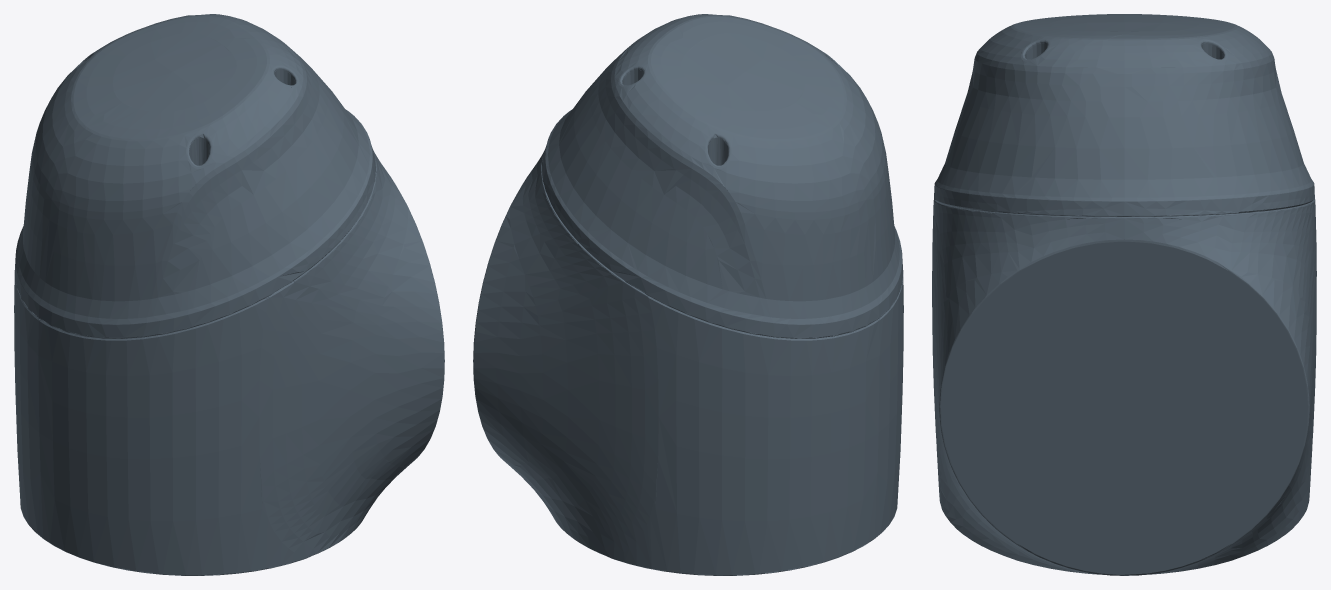
3 renders of one model, left to right at view 1: azimuth 30°, elevation 25°; view 2: azimuth 150°, elevation 25°; view 3: azimuth 270°, elevation 25°, orthographic. The views are drawn at different scales.
Parts seen in each view (by area): view 1: A0509_2_0; view 2: A0509_2_0; view 3: A0509_2_0.
Boxes of the visible parts, x1,y1,x2,y2 form: A0509_2_0: (14,14,444,575); A0509_2_0: (473,14,903,575); A0509_2_0: (932,14,1316,575).
Bounding box in the file's own units: 125 × 122 × 170.
